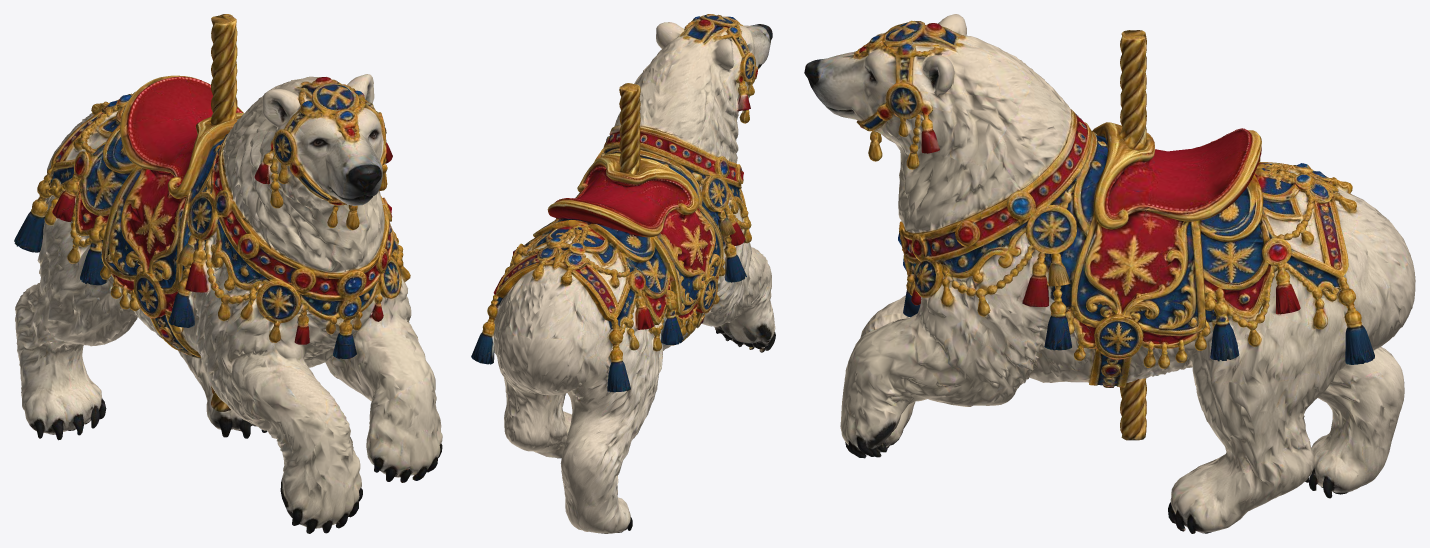
The model's file is polar-bear.glb.
The picture shows the model from 3 angles, left to right: view 1: azimuth 30°, elevation 25°; view 2: azimuth 150°, elevation 25°; view 3: azimuth 270°, elevation 25°; orthographic projection. The views are drawn at different scales.
Bounding box in the file's own units: 0.8272 × 1.69 × 1.9.
1 material, 1 textured.
